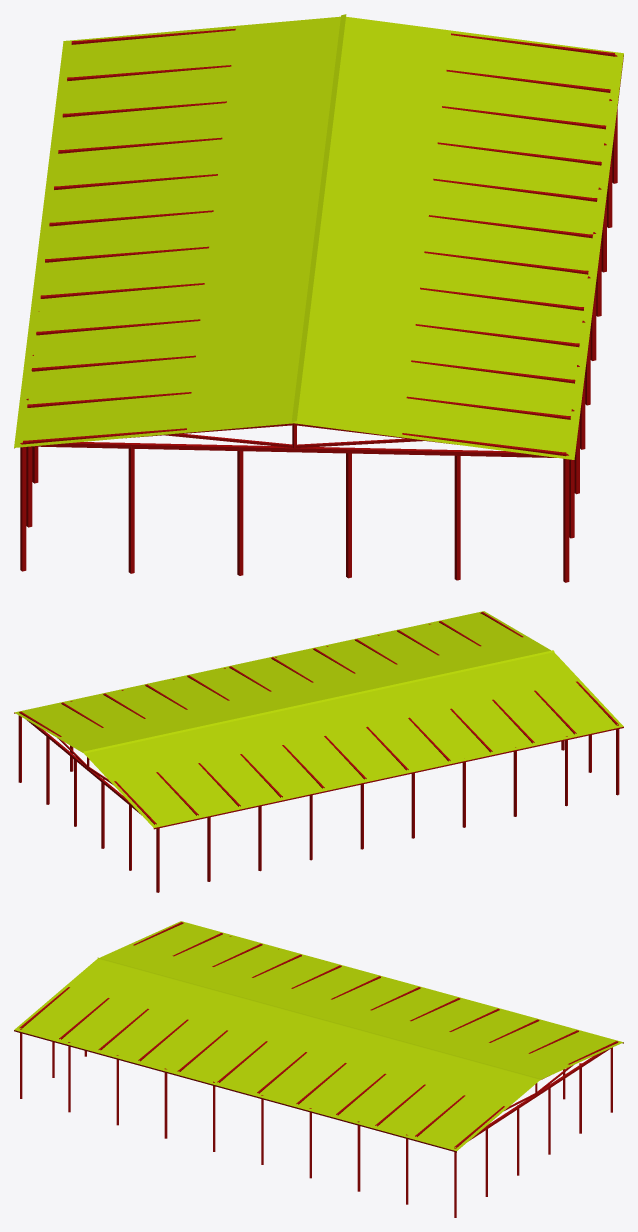
The model's file is svc_108.glb.
3 views of the same model, one above another, from view 1: azimuth 30°, elevation 25°; view 2: azimuth 150°, elevation 25°; view 3: azimuth 270°, elevation 25° (orthographic). The views are drawn at different scales.
Parts seen in each view (by area): view 1: svc_108; view 2: svc_108; view 3: svc_108.
Boxes of the visible parts, <box> form: svc_108: <box>14,14,623,582</box>; svc_108: <box>14,611,623,892</box>; svc_108: <box>14,921,623,1217</box>.
Bounding box in the file's own units: 45.45 × 8.01 × 50.88.
